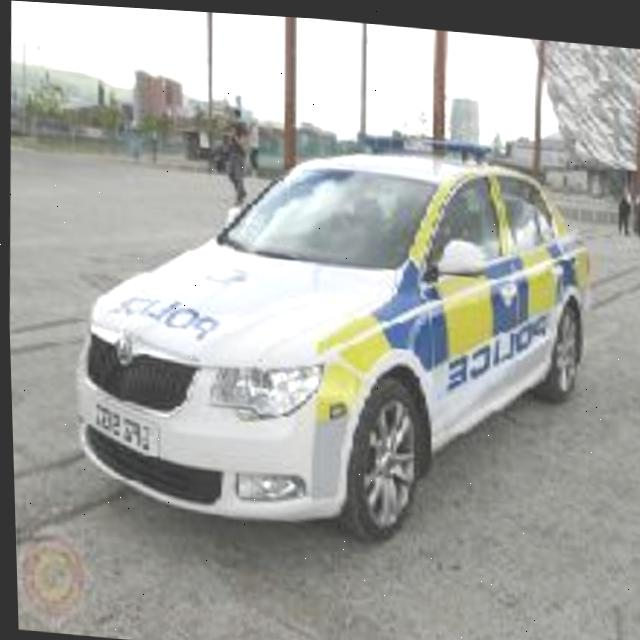emergency: (59, 102, 584, 538)
